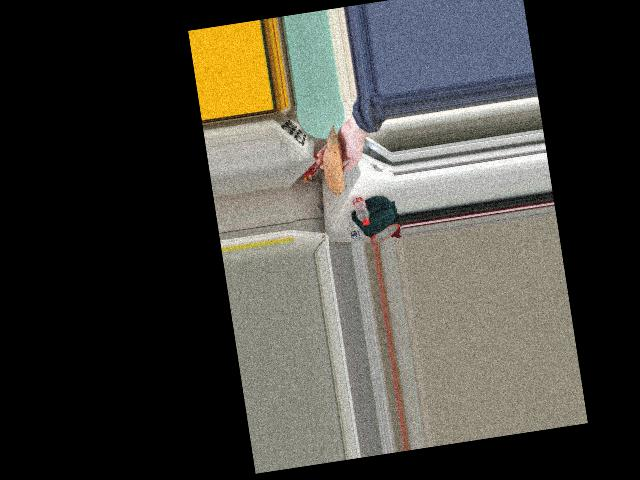sweet_potato: (318, 127, 349, 196)
